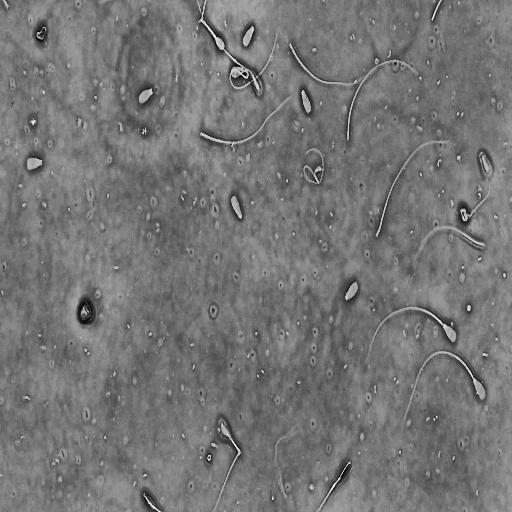dirt-particles: (75, 294, 95, 327), (34, 22, 48, 44)
folded-tail: (200, 18, 252, 73), (229, 34, 277, 89), (214, 437, 242, 511)
loose-head: (299, 85, 314, 117), (344, 277, 360, 303), (137, 84, 154, 108), (229, 192, 243, 221), (24, 155, 45, 173), (241, 23, 256, 48)
loose-tail: (372, 137, 451, 240), (344, 55, 423, 142), (405, 223, 488, 289), (198, 92, 295, 147), (289, 38, 364, 88)
normal: (402, 349, 488, 424), (369, 304, 459, 350), (228, 28, 280, 92), (211, 417, 242, 512), (198, 0, 228, 54)
